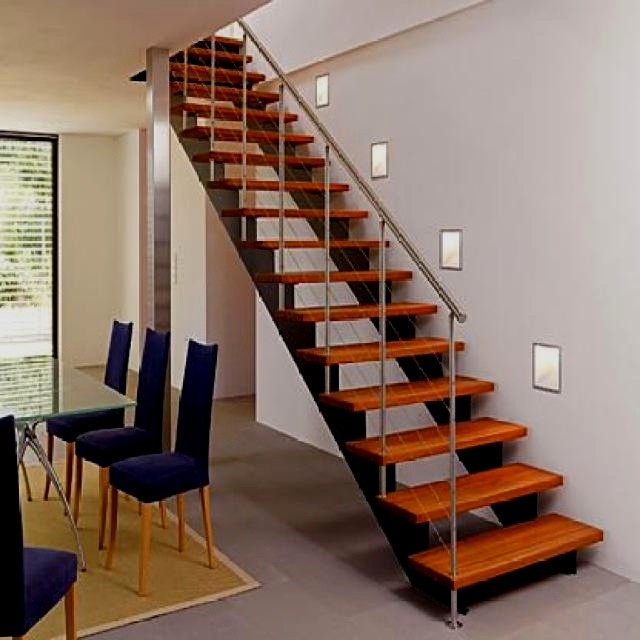stair: (135, 1, 607, 608)
